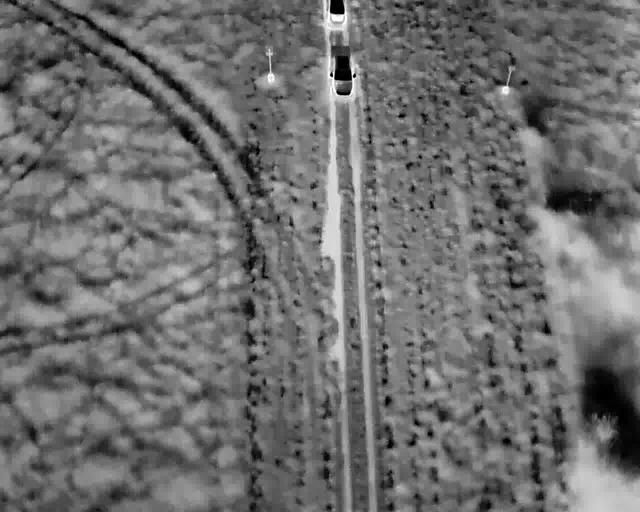car: (327, 44, 356, 97), (325, 0, 348, 25)
